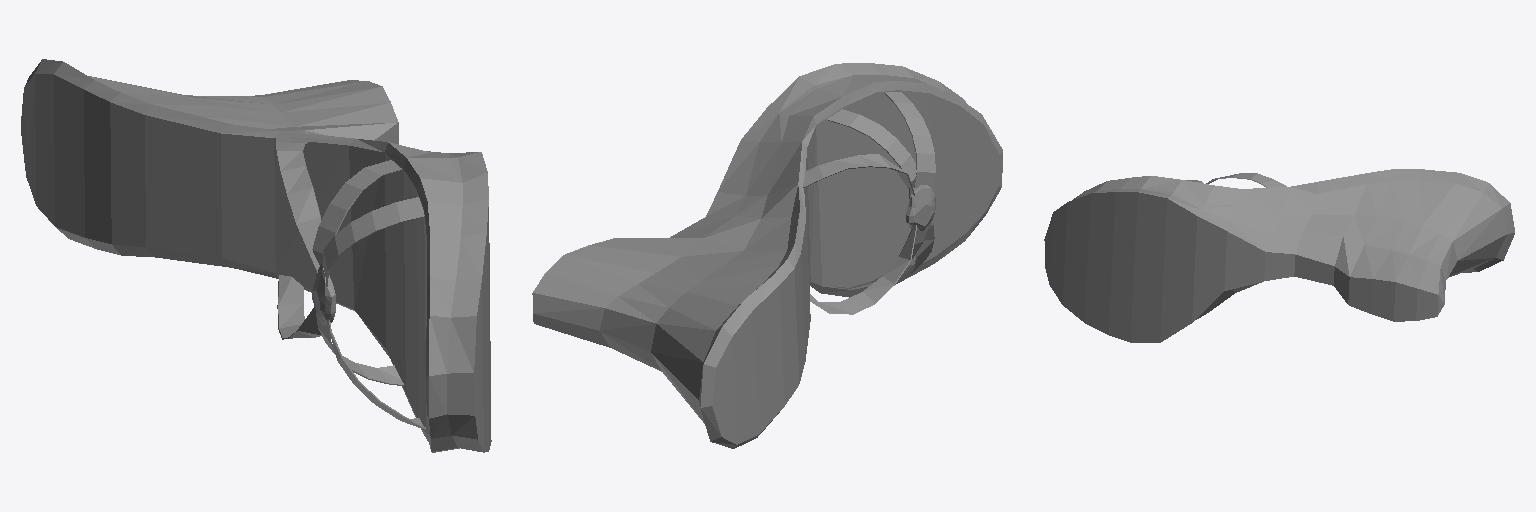
URDF robot description (cube.urdf):
<?xml version="0.0" ?> 
<robot name="cube.urdf"> 
<link name="legobrick"> 
<contact> 
<lateral_friction value="1.0"/>
<rolling_friction value="0.0"/>
<contact_cfm value="0.0"/>
<contact_erp value="1.0"/>
</contact> 
<inertial> 
<origin rpy="0 0 0" xyz="0.0 0.0 0.0"/> 
<mass value="0.1"/> 
<inertia ixx="1" ixy="0" ixz="0" iyy="1" iyz="0" izz="1"/> 
</inertial> 
<visual> 
<origin rpy="1.570796 0 0" xyz="0.009897971812080538 0.01123904161073826 -0.0010907973154362428"/> 
<geometry> 
<mesh filename="WedgeShoe2.obj" scale="1 1 1"/> 
</geometry> 
<material name="yellow"> 
<color rgba="0.6 0.6 0.6 1"/> 
</material> 
</visual> 
<collision> 
<origin rpy="1.570796 0 0" xyz="0.009897971812080538 0.01123904161073826 -0.0010907973154362428"/> 
<geometry> 
<mesh filename="WedgeShoe2_col.obj" scale="1 1 1"/> 
</geometry> 
</collision> 
</link> 
</robot>

--- Facts derived from the render (not from the file) ---
3 views of the same robot in one strip: view 1: azimuth 30°, elevation 25°; view 2: azimuth 150°, elevation 25°; view 3: azimuth 270°, elevation 25° (orthographic).
Robot: cube.urdf — 1 links, 0 joints (none); root link legobrick; default pose: every joint at zero.
Visible links, largest first — view 1: legobrick; view 2: legobrick; view 3: legobrick.
Link boxes in pixels (bbox=[...]): legobrick: bbox=[21, 59, 491, 452]; legobrick: bbox=[532, 63, 1002, 448]; legobrick: bbox=[1044, 169, 1514, 342].
Bounding box of the posed robot: 0.045 × 0.1071 × 0.038 m (x, y, z).
Meshes: 1 distinct files referenced, 1 mesh visuals loaded (1 OBJ).